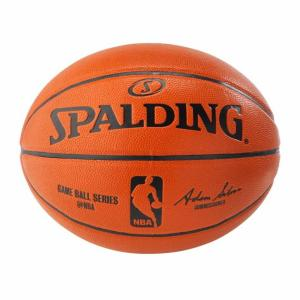Basket: (20, 41, 281, 255)
